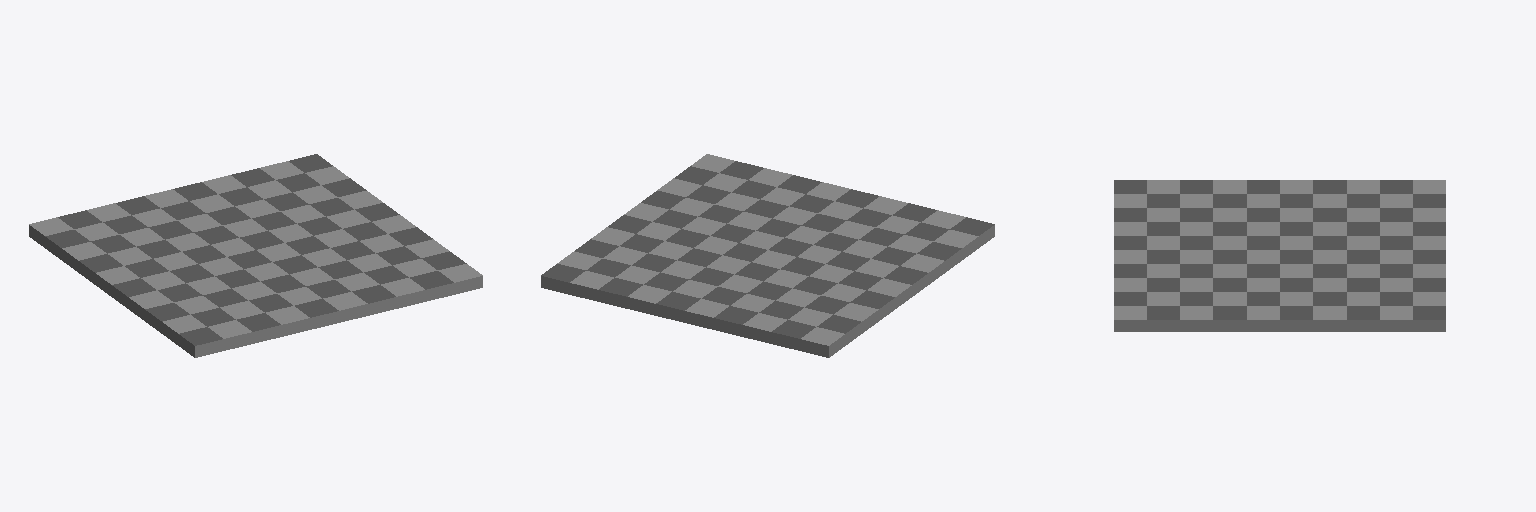
The model's file is platform.obj.
3 views of the same model, side by side, from view 1: azimuth 30°, elevation 25°; view 2: azimuth 150°, elevation 25°; view 3: azimuth 270°, elevation 25° (orthographic).
Visible parts, largest first — view 1: grid1; view 2: grid1; view 3: grid1.
Part boxes in pixels (x1,y1,x2,y2): grid1: (29,154,482,357); grid1: (541,154,994,357); grid1: (1114,180,1445,331).
Bounding box in the file's own units: 5 × 0.2 × 5.